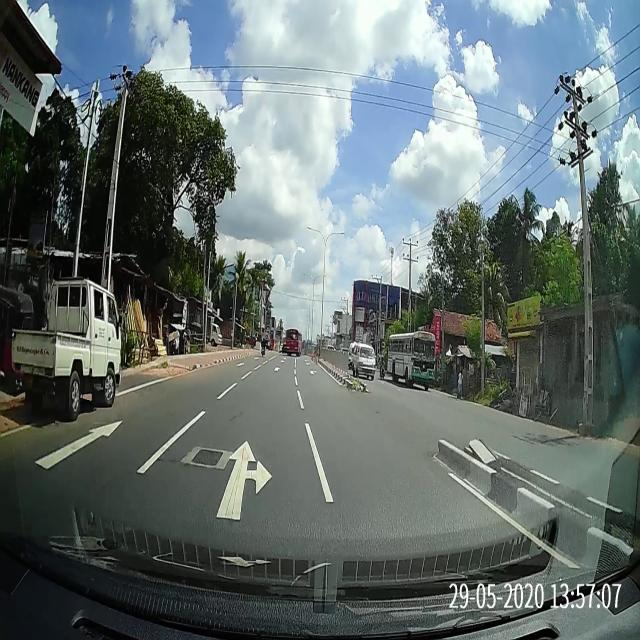forward_right: (95, 433, 356, 547), (107, 438, 347, 522), (131, 438, 338, 497), (141, 439, 330, 477)
